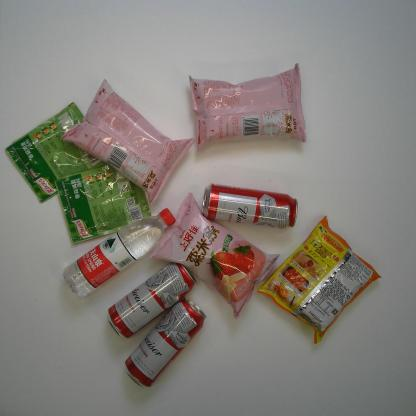Alcohol: (124, 294, 206, 388), (105, 261, 198, 341), (202, 182, 298, 229)
Drink: (62, 208, 178, 300)
Instant Noodles: (256, 214, 382, 346)
Puffed Food: (61, 78, 196, 207), (149, 191, 281, 322), (187, 62, 307, 155)
Seasoner: (4, 101, 107, 205), (54, 164, 152, 245)
